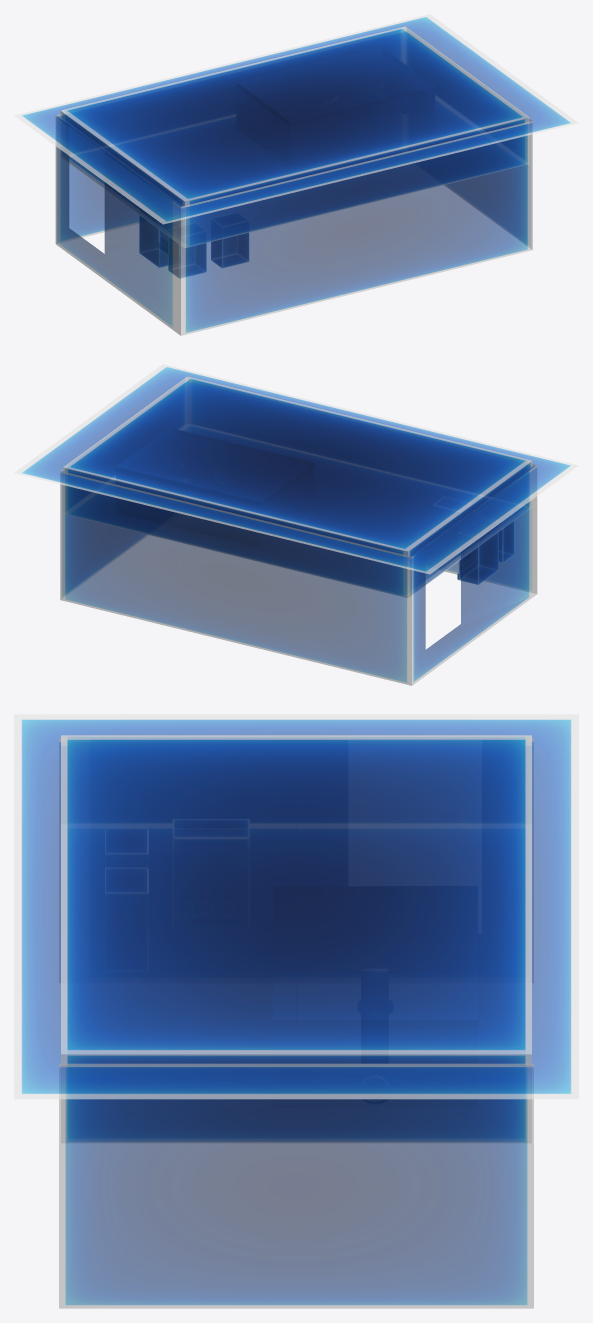
3 views of the same model, one above another, from view 1: azimuth 30°, elevation 25°; view 2: azimuth 150°, elevation 25°; view 3: azimuth 270°, elevation 25° (orthographic). The views are drawn at different scales.
Parts seen in each view (by area): view 1: 立方体.000; view 2: 立方体.000; view 3: 立方体.000.
Boxes of the visible parts, x1=… form: 立方体.000: x1=14, y1=14, x2=578, y2=335; 立方体.000: x1=14, y1=364, x2=578, y2=685; 立方体.000: x1=14, y1=714, x2=578, y2=1308.
Size of the model in its own units: 1.28 by 0.3916 by 0.7955.
1 material, 1 textured.
